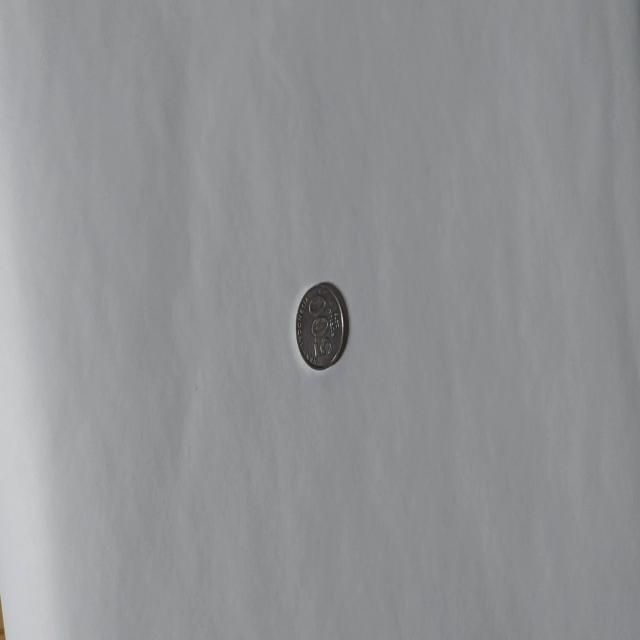lima ratus rupiah: (294, 280, 346, 370)
